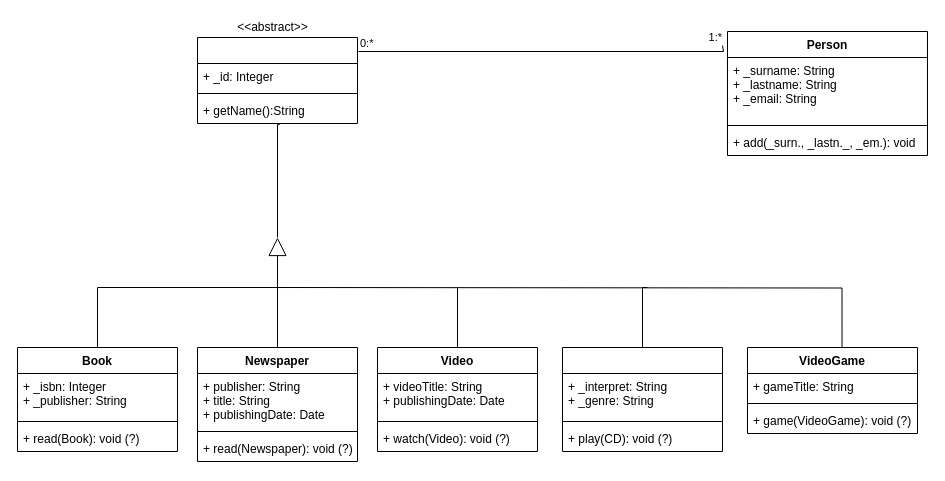
This 945x481 diagram has some shape labels left out. The box of each missing label's shape, as (x1, y1, x2, y2) in pixels:
CD: (562, 346, 722, 452)
RentObject: (196, 36, 358, 124)
